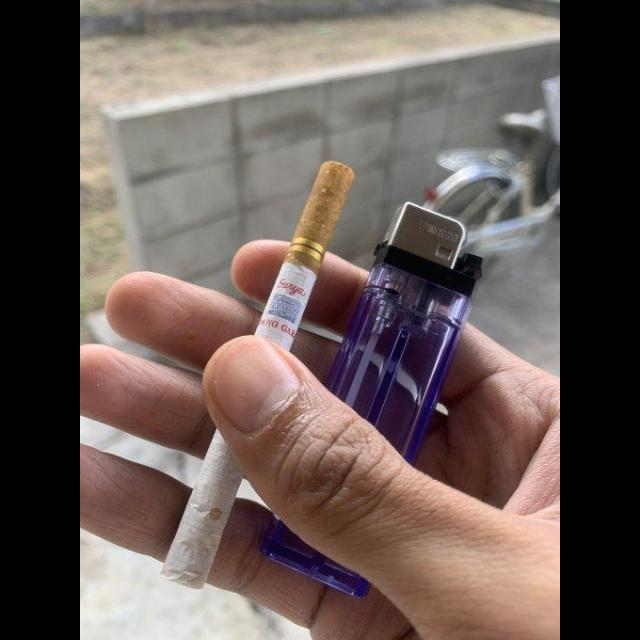rokok: (164, 150, 358, 600)
